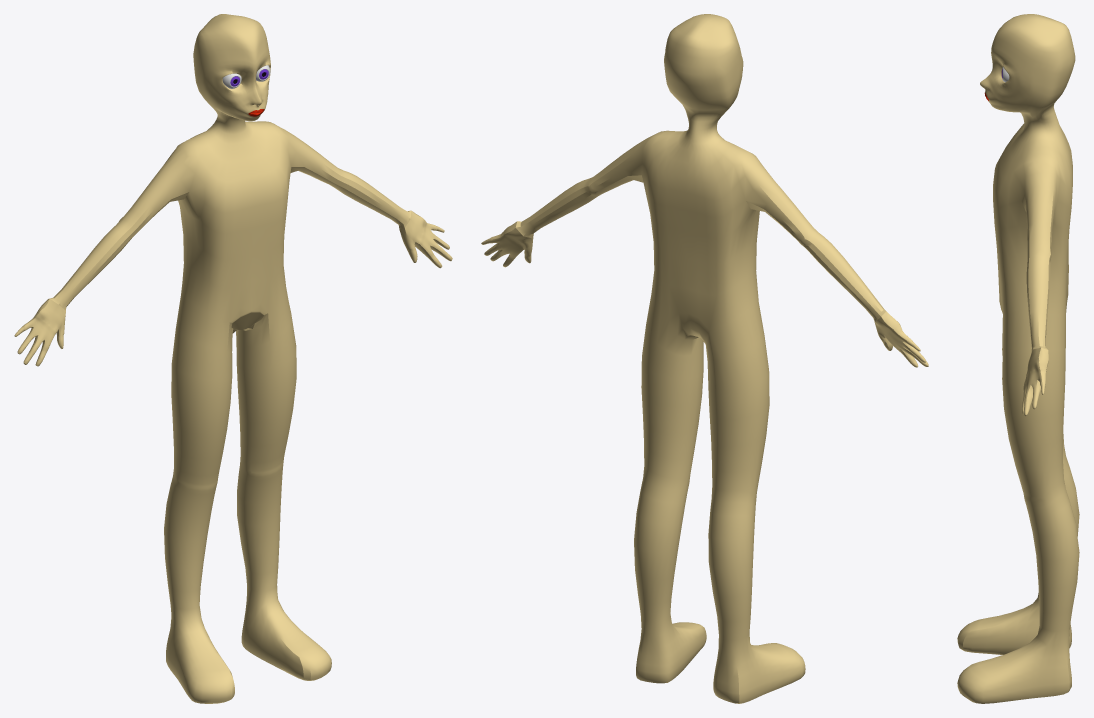
Rendered from char.fbx.
3 renders of one model, left to right at view 1: azimuth 30°, elevation 25°; view 2: azimuth 150°, elevation 25°; view 3: azimuth 270°, elevation 25°, orthographic. The views are drawn at different scales.
Visible parts, largest first — view 1: Cube; view 2: Cube; view 3: Cube.
Boxes of the visible parts, left/top/right/bottom form: Cube: left=14, top=14, right=452, bottom=703; Cube: left=481, top=14, right=928, bottom=703; Cube: left=957, top=14, right=1079, bottom=703.
Bounding box in the file's own units: 1.69 × 2.44 × 0.4114.
